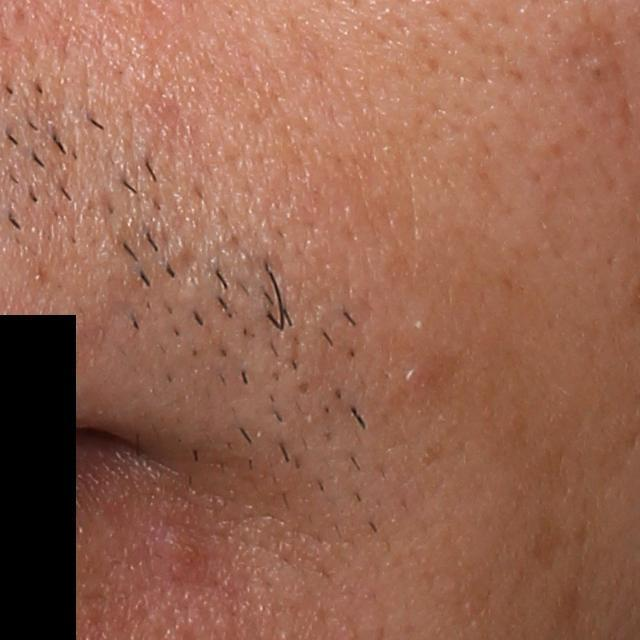papule: (156, 521, 203, 564)
